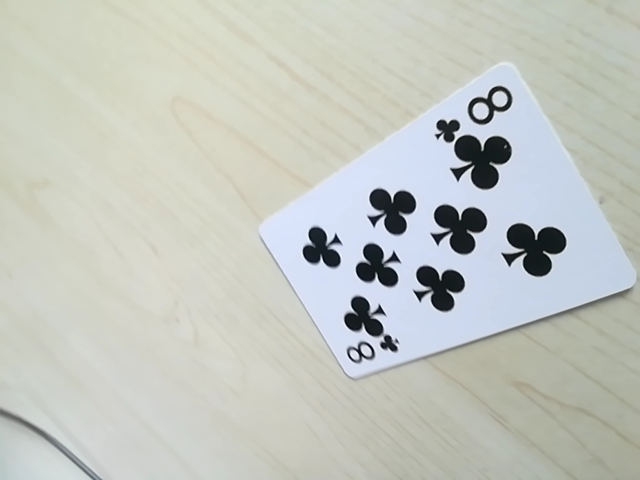mh 8: (435, 81, 519, 137), (338, 330, 398, 373)
